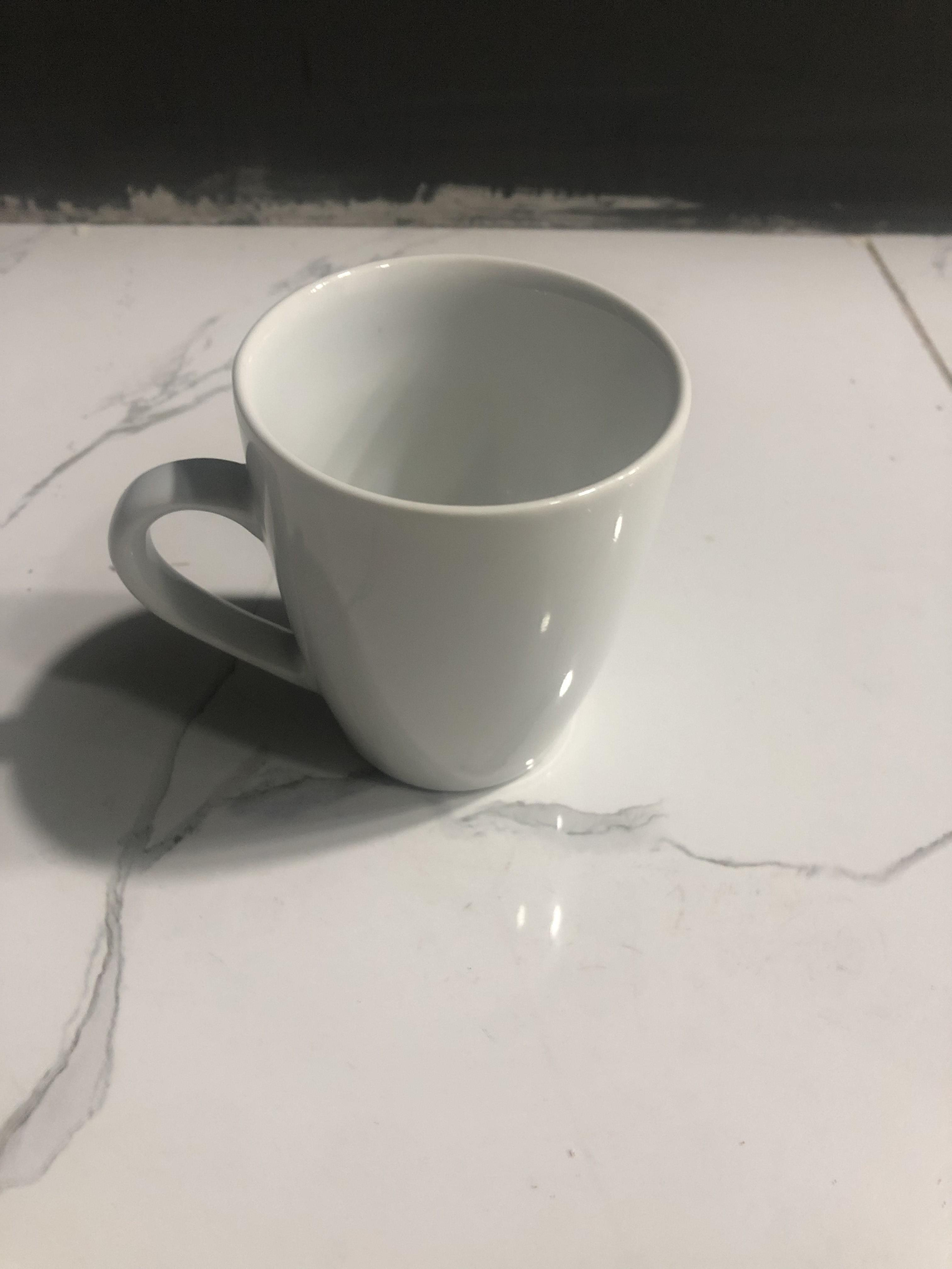cup-handle: (106, 254, 698, 804)
